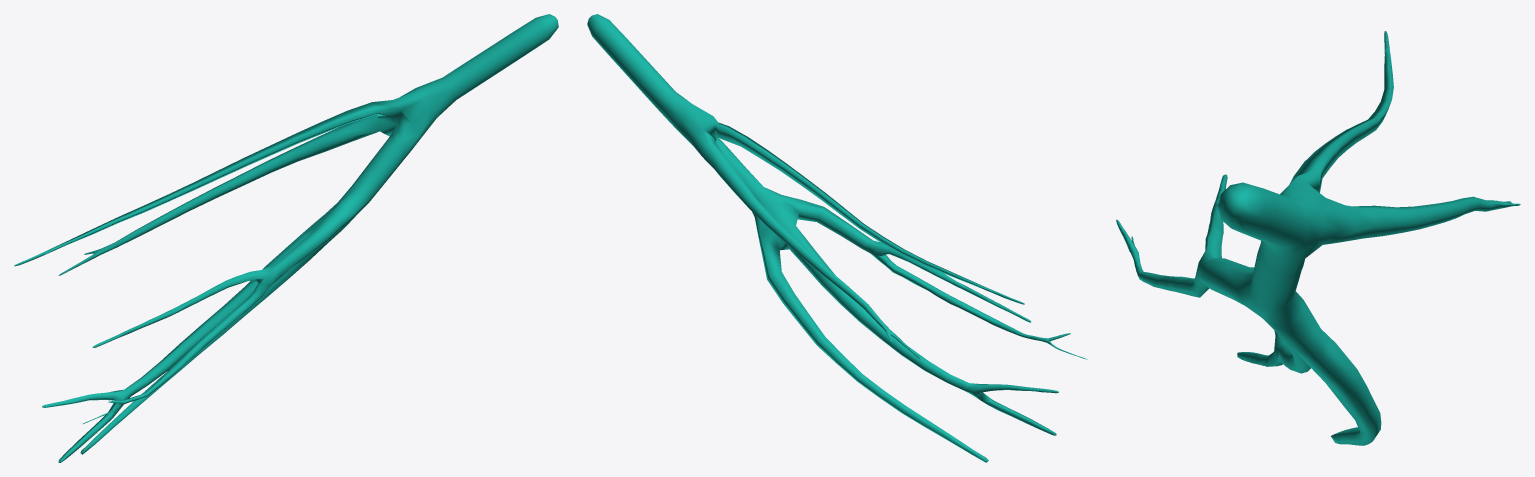
The model's file is Olfactory_nerve_R.glb.
The picture shows the model from 3 angles, left to right: view 1: azimuth 30°, elevation 25°; view 2: azimuth 150°, elevation 25°; view 3: azimuth 270°, elevation 25°; orthographic projection. The views are drawn at different scales.
Parts seen in each view (by area): view 1: Olfactory_nerve_R; view 2: Olfactory_nerve_R; view 3: Olfactory_nerve_R.
Boxes of the visible parts, <box> form: Olfactory_nerve_R: <box>14,14,558,462</box>; Olfactory_nerve_R: <box>587,14,1087,462</box>; Olfactory_nerve_R: <box>1116,31,1520,445</box>.
Size of the model in its own units: 0.0346 by 0.0228 by 0.0127.
1 material, 1 textured.
